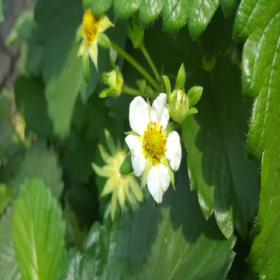Blossom Blight: (140, 119, 169, 168)
